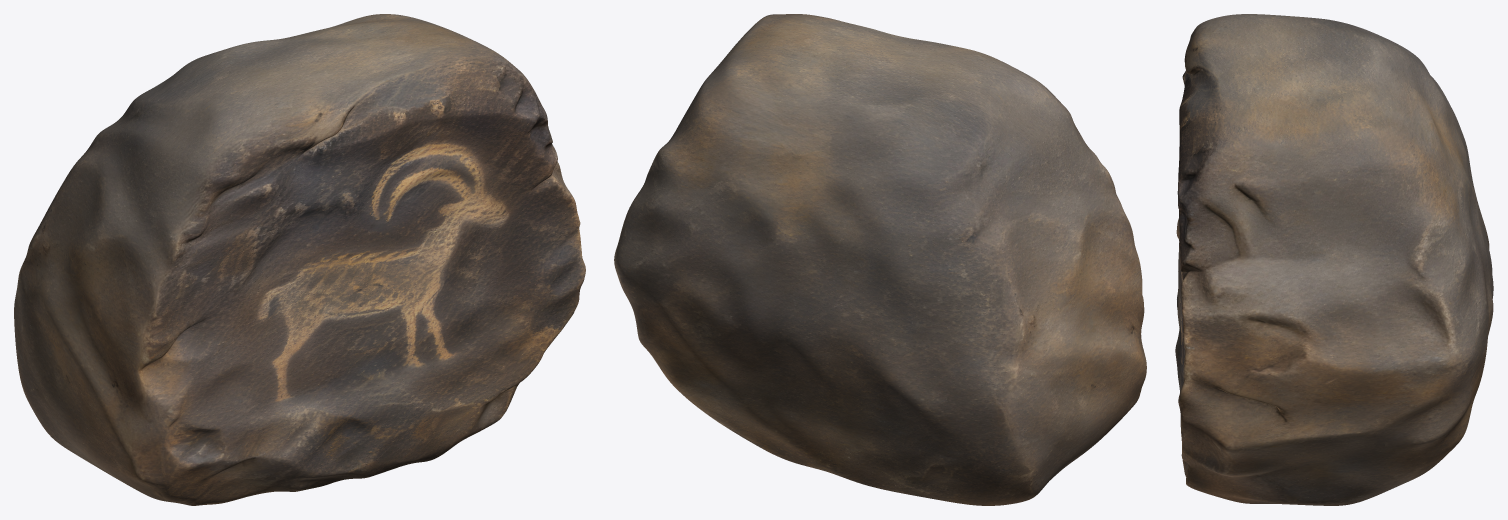
The model's file is petroglyph-stone.glb.
The picture shows the model from 3 angles, left to right: view 1: azimuth 30°, elevation 25°; view 2: azimuth 150°, elevation 25°; view 3: azimuth 270°, elevation 25°; orthographic projection. The views are drawn at different scales.
Visible parts, largest first — view 1: node_0; view 2: node_0; view 3: node_0.
Part boxes in pixels (x1,y1,x2,y2): node_0: (14, 14, 585, 505); node_0: (614, 14, 1146, 505); node_0: (1175, 14, 1493, 505).
Size of the model in its own units: 1 by 0.8107 by 0.5872.
Materials: 1 (1 with a texture image).
